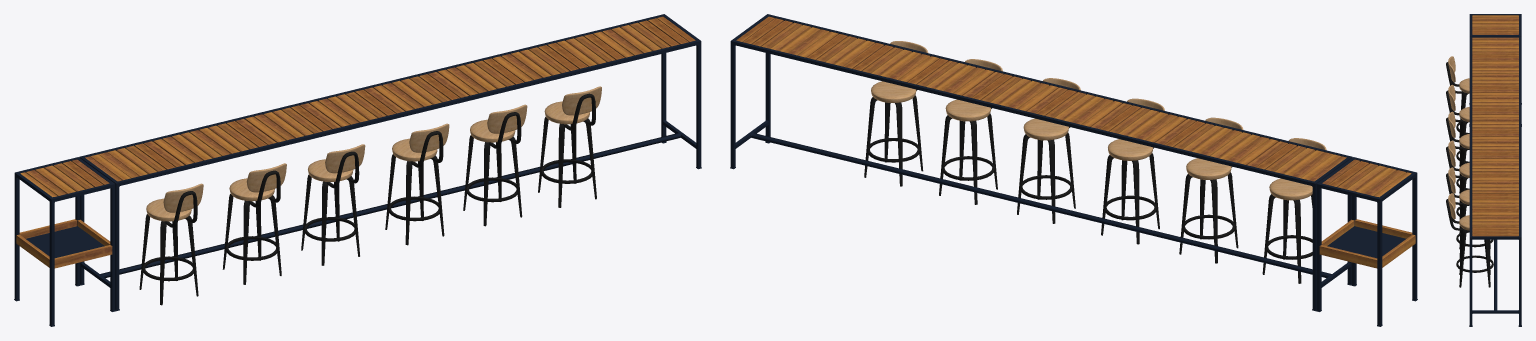
Rendered from udlTableBar.glb.
3 views of the same model, side by side, from view 1: azimuth 30°, elevation 25°; view 2: azimuth 150°, elevation 25°; view 3: azimuth 270°, elevation 25° (orthographic). The views are drawn at different scales.
Parts seen in each view (by area): view 1: SM_Corner table metal.001, SM_Corner table metal, Bar Stool.004, Bar Stool.001, Bar Stool.005, Bar Stool.002, Bar Stool.007, Bar Stool.003; view 2: SM_Corner table metal.001, SM_Corner table metal, Bar Stool.002, Bar Stool.005, Bar Stool.007, Bar Stool.004, Bar Stool.001, Bar Stool.003; view 3: SM_Corner table metal.001, SM_Corner table metal, Bar Stool.004, Bar Stool.005, Bar Stool.003, Bar Stool.002, Bar Stool.001, Bar Stool.007.
Boxes of the visible parts, x1,y1,x2,y2 form: SM_Corner table metal.001: (79, 14, 701, 311); SM_Corner table metal: (14, 157, 115, 326); Bar Stool.004: (538, 86, 601, 207); Bar Stool.001: (222, 163, 286, 284); Bar Stool.005: (463, 104, 527, 226); Bar Stool.002: (301, 144, 365, 265); Bar Stool.007: (385, 123, 449, 245); Bar Stool.003: (139, 183, 203, 305); SM_Corner table metal.001: (730, 14, 1352, 311); SM_Corner table metal: (1316, 157, 1417, 326); Bar Stool.002: (1101, 98, 1164, 244); Bar Stool.005: (939, 59, 1002, 204); Bar Stool.007: (1017, 78, 1080, 223); Bar Stool.004: (864, 41, 928, 186); Bar Stool.001: (1179, 117, 1243, 263); Bar Stool.003: (1262, 138, 1326, 283); SM_Corner table metal.001: (1469, 36, 1521, 326); SM_Corner table metal: (1469, 14, 1521, 124); Bar Stool.004: (1446, 193, 1493, 287); Bar Stool.005: (1446, 167, 1493, 258); Bar Stool.003: (1446, 56, 1469, 150); Bar Stool.002: (1446, 111, 1469, 205); Bar Stool.001: (1446, 85, 1469, 175); Bar Stool.007: (1446, 140, 1469, 233).
Size of the model in its own units: 5.96 by 1.11 by 0.8554.
Materials: 4 (2 with a texture image).
